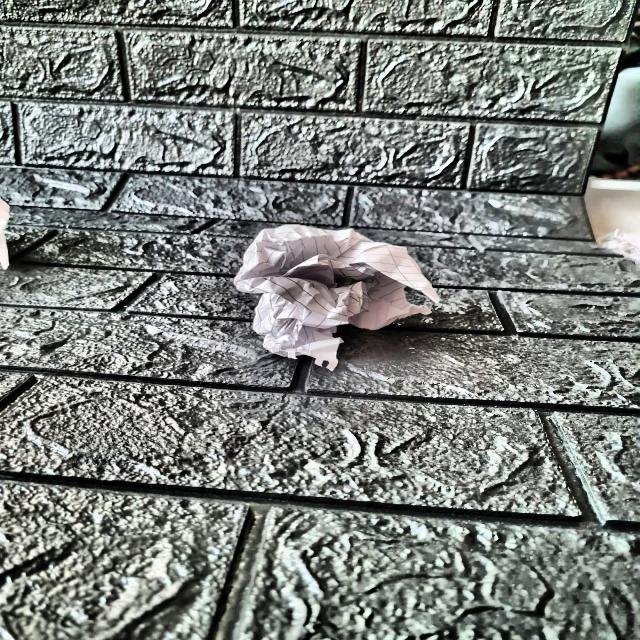Paper: (243, 218, 441, 362)
